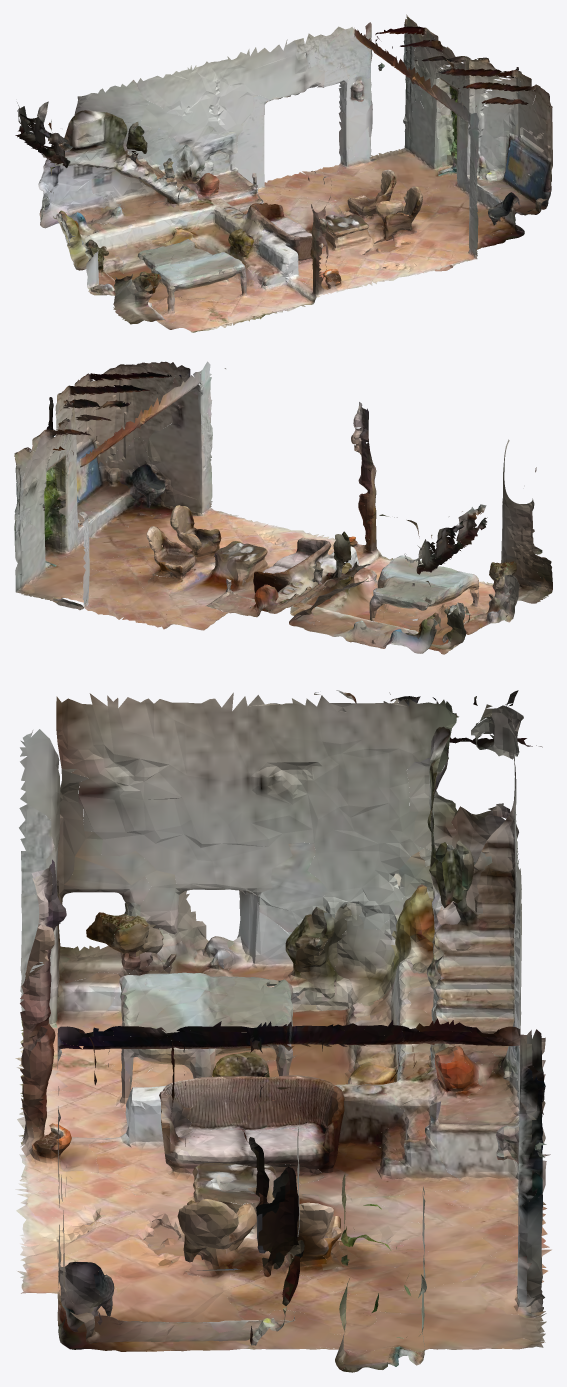
File: esc_baja_muros_04.glb
3 renders of one model, top to bottom at view 1: azimuth 30°, elevation 25°; view 2: azimuth 150°, elevation 25°; view 3: azimuth 270°, elevation 25°, orthographic. The views are drawn at different scales.
Visible parts, largest first — view 1: muros_Salon_y_porche_4_GLTF_12, muros_Salon_y_porche_4_GLTF_8, muros_Salon_y_porche_4_GLTF_9, muros_Salon_y_porche_4_GLTF_7, muros_Salon_y_porche_4_GLTF_1, muros_Salon_y_porche_4_GLTF_5, muros_Salon_y_porche_4_GLTF_10, muros_Salon_y_porche_4_GLTF_13, muros_Salon_y_porche_4_GLTF_6, muros_Salon_y_porche_4_GLTF_2, muros_Salon_y_porche_4_GLTF_11, muros_Salon_y_porche_4_GLTF_4 (+2 smaller); view 2: muros_Salon_y_porche_4_GLTF_12, muros_Salon_y_porche_4_GLTF_7, muros_Salon_y_porche_4_GLTF_10, muros_Salon_y_porche_4_GLTF_13, muros_Salon_y_porche_4_GLTF_6, muros_Salon_y_porche_4_GLTF_9, muros_Salon_y_porche_4_GLTF_11, muros_Salon_y_porche_4_GLTF_1, muros_Salon_y_porche_4_GLTF_5, muros_Salon_y_porche_4_GLTF, muros_Salon_y_porche_4_GLTF_2, muros_Salon_y_porche_4_GLTF_8 (+2 smaller); view 3: muros_Salon_y_porche_4_GLTF_8, muros_Salon_y_porche_4_GLTF_12, muros_Salon_y_porche_4_GLTF_7, muros_Salon_y_porche_4_GLTF_6, muros_Salon_y_porche_4_GLTF_9, muros_Salon_y_porche_4_GLTF_13, muros_Salon_y_porche_4_GLTF, muros_Salon_y_porche_4_GLTF_11, muros_Salon_y_porche_4_GLTF_1, muros_Salon_y_porche_4_GLTF_2, muros_Salon_y_porche_4_GLTF_5, muros_Salon_y_porche_4_GLTF_10 (+2 smaller).
Part boxes in pixels (bbox=[...]): muros_Salon_y_porche_4_GLTF_12: bbox=[42, 33, 538, 323]; muros_Salon_y_porche_4_GLTF_8: bbox=[48, 29, 550, 280]; muros_Salon_y_porche_4_GLTF_9: bbox=[19, 68, 477, 313]; muros_Salon_y_porche_4_GLTF_7: bbox=[37, 26, 551, 315]; muros_Salon_y_porche_4_GLTF_1: bbox=[38, 36, 552, 319]; muros_Salon_y_porche_4_GLTF_5: bbox=[56, 14, 521, 271]; muros_Salon_y_porche_4_GLTF_10: bbox=[19, 27, 552, 300]; muros_Salon_y_porche_4_GLTF_13: bbox=[15, 37, 494, 304]; muros_Salon_y_porche_4_GLTF_6: bbox=[66, 26, 552, 332]; muros_Salon_y_porche_4_GLTF_2: bbox=[85, 57, 500, 271]; muros_Salon_y_porche_4_GLTF_11: bbox=[43, 22, 515, 316]; muros_Salon_y_porche_4_GLTF_4: bbox=[35, 77, 457, 325]; muros_Salon_y_porche_4_GLTF_12: bbox=[14, 368, 549, 646]; muros_Salon_y_porche_4_GLTF_7: bbox=[21, 361, 504, 654]; muros_Salon_y_porche_4_GLTF_10: bbox=[14, 373, 513, 632]; muros_Salon_y_porche_4_GLTF_13: bbox=[22, 372, 552, 649]; muros_Salon_y_porche_4_GLTF_6: bbox=[52, 362, 521, 629]; muros_Salon_y_porche_4_GLTF_9: bbox=[44, 370, 477, 647]; muros_Salon_y_porche_4_GLTF_11: bbox=[109, 361, 512, 622]; muros_Salon_y_porche_4_GLTF_1: bbox=[43, 385, 448, 646]; muros_Salon_y_porche_4_GLTF_5: bbox=[14, 395, 457, 641]; muros_Salon_y_porche_4_GLTF: bbox=[46, 362, 542, 636]; muros_Salon_y_porche_4_GLTF_2: bbox=[45, 483, 552, 644]; muros_Salon_y_porche_4_GLTF_8: bbox=[71, 379, 536, 636]; muros_Salon_y_porche_4_GLTF_8: bbox=[56, 692, 542, 1241]; muros_Salon_y_porche_4_GLTF_12: bbox=[20, 690, 545, 1372]; muros_Salon_y_porche_4_GLTF_7: bbox=[17, 705, 546, 1351]; muros_Salon_y_porche_4_GLTF_6: bbox=[15, 693, 547, 1323]; muros_Salon_y_porche_4_GLTF_9: bbox=[17, 694, 516, 1312]; muros_Salon_y_porche_4_GLTF_13: bbox=[30, 737, 542, 1328]; muros_Salon_y_porche_4_GLTF: bbox=[19, 714, 550, 1335]; muros_Salon_y_porche_4_GLTF_11: bbox=[32, 690, 551, 1345]; muros_Salon_y_porche_4_GLTF_1: bbox=[20, 707, 545, 1349]; muros_Salon_y_porche_4_GLTF_2: bbox=[45, 912, 514, 1370]; muros_Salon_y_porche_4_GLTF_5: bbox=[148, 842, 546, 1363]; muros_Salon_y_porche_4_GLTF_10: bbox=[57, 696, 521, 1372].
Bounding box in the file's own units: 10.83 × 3.72 × 5.77.
Materials: 14 (14 with a texture image).
